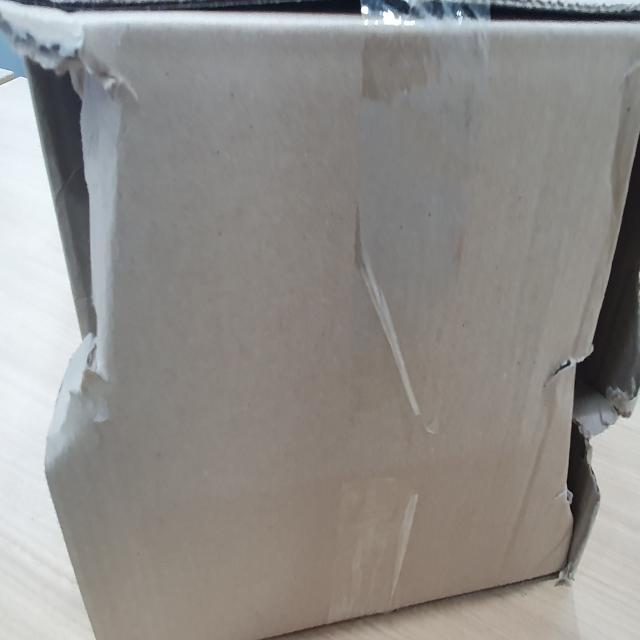hole: (11, 13, 130, 451), (557, 115, 640, 575)
